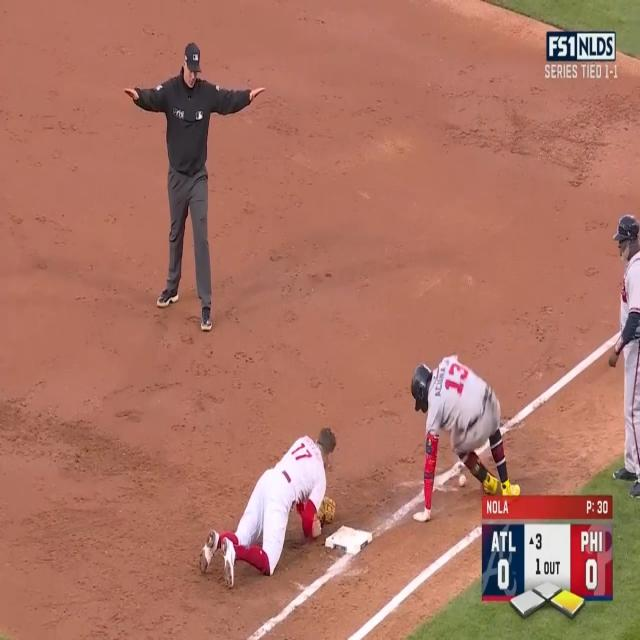baseball: (458, 474, 466, 488)
